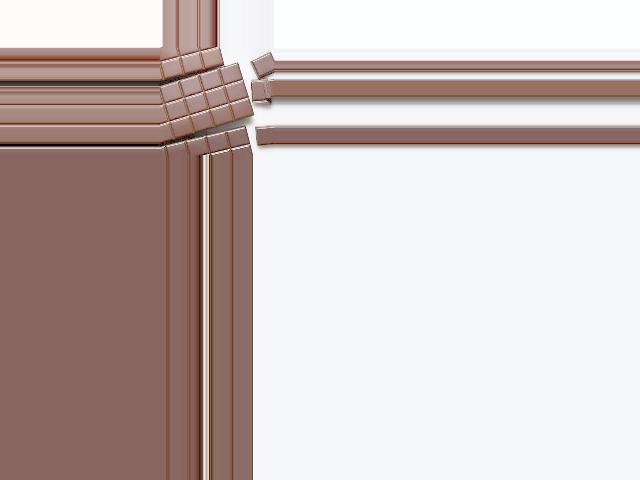chocolate: (158, 60, 252, 140)
